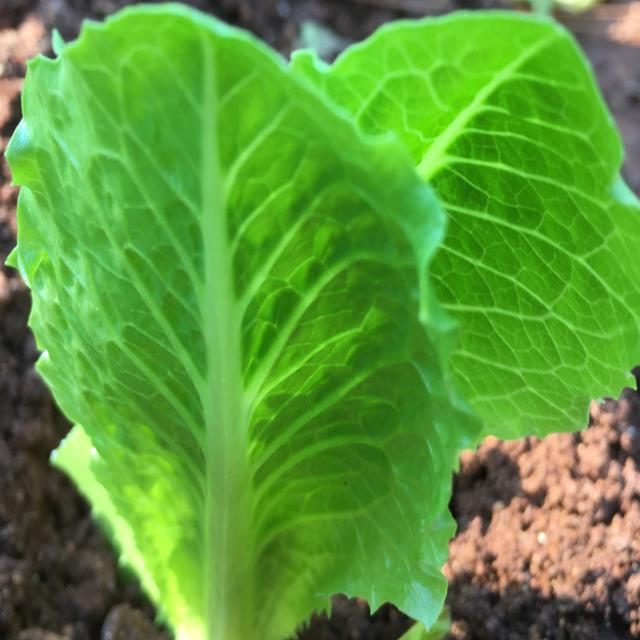Healthy Lettuce: (5, 4, 636, 636), (322, 10, 637, 443)
